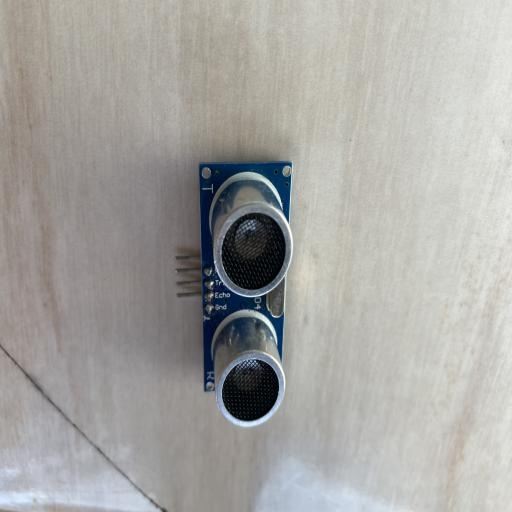Ultrasonic Sensor: (174, 160, 294, 428)
